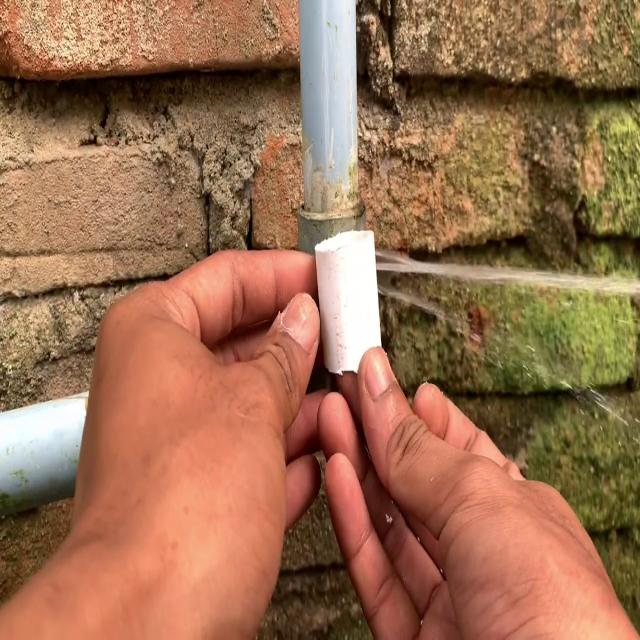leak: (375, 251, 640, 293)
